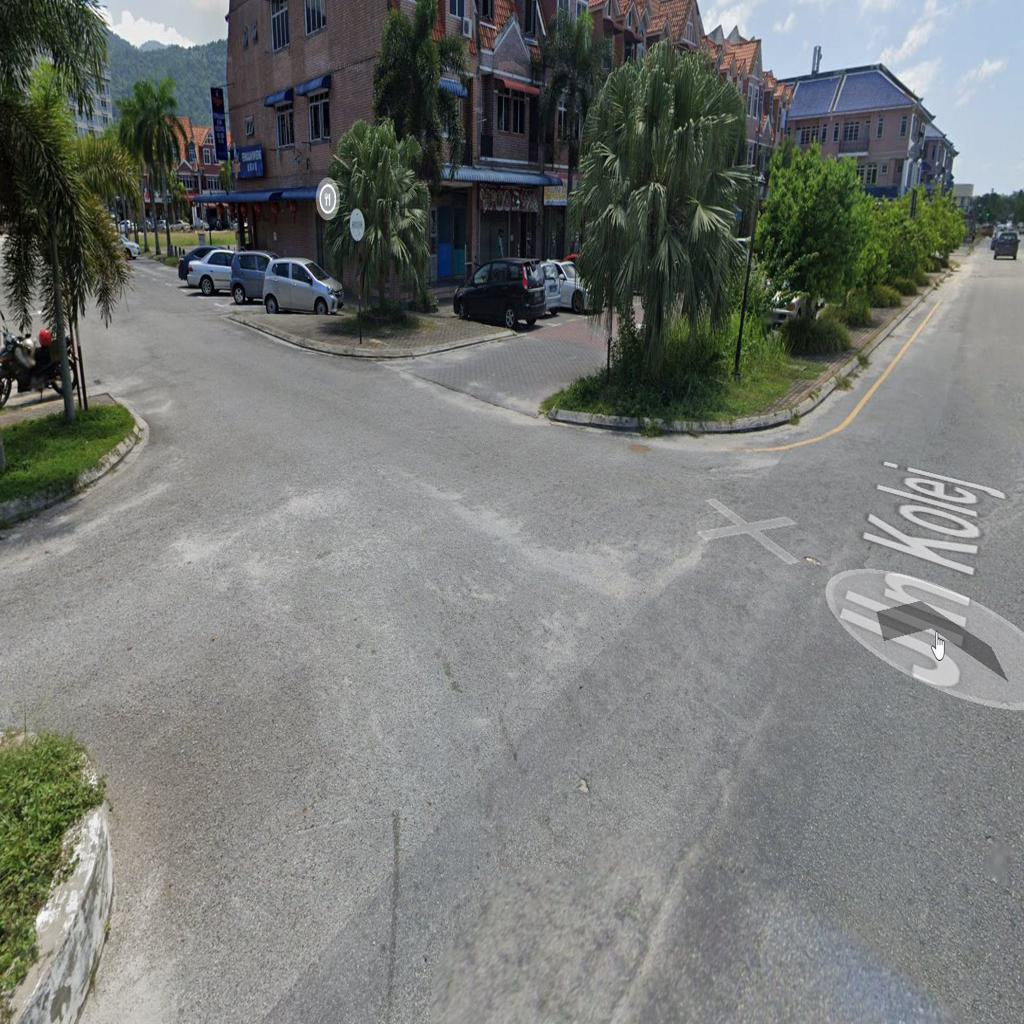Junction: (364, 317, 639, 420)
